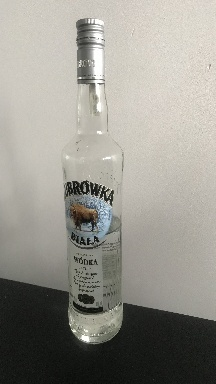butelka: (59, 13, 124, 347)
